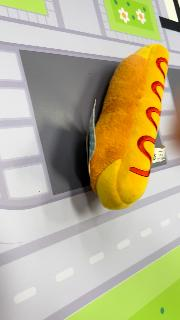hotdog: (88, 44, 170, 210)
